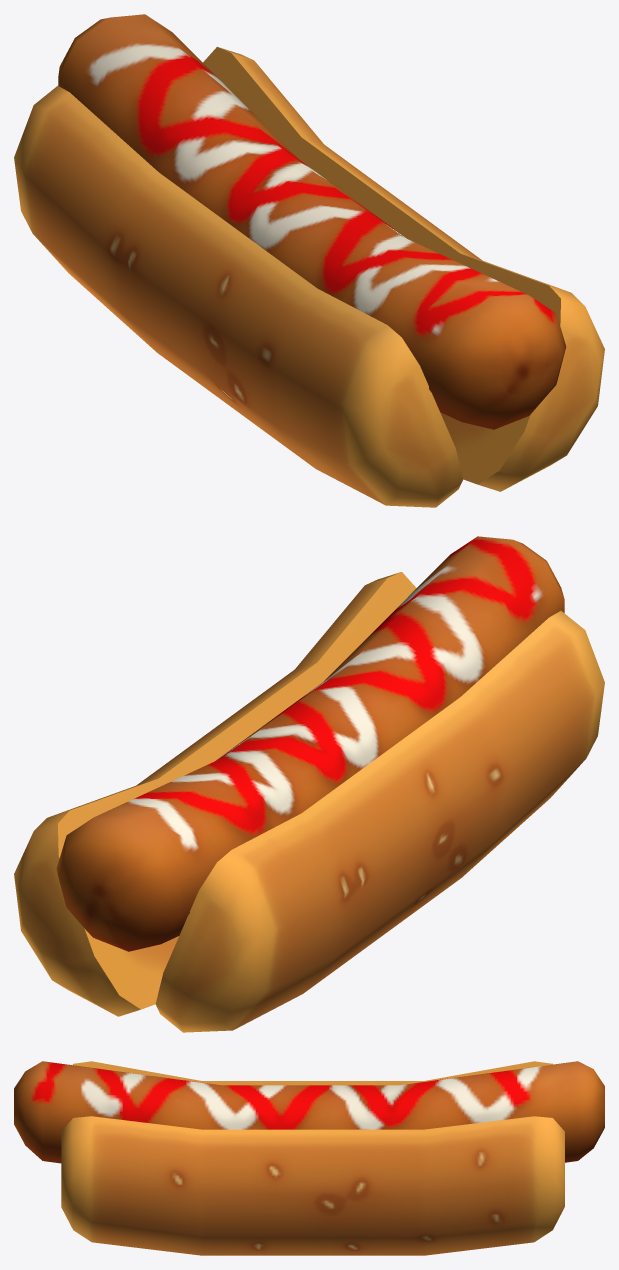
Rendered from CafeFood01_2.FBX.
The picture shows the model from 3 angles, top to bottom: view 1: azimuth 30°, elevation 25°; view 2: azimuth 150°, elevation 25°; view 3: azimuth 270°, elevation 25°; orthographic projection. The views are drawn at different scales.
Parts seen in each view (by area): view 1: CafeFood01_2; view 2: CafeFood01_2; view 3: CafeFood01_2.
Part boxes in pixels (x1,y1,x2,y2): CafeFood01_2: (14,14,604,507); CafeFood01_2: (14,536,604,1032); CafeFood01_2: (14,1061,604,1255).
Size of what is drawn, in the model's own units: 0.0898 by 0.086 by 0.2611.
